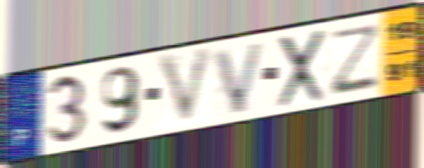3: (44, 70, 89, 150)
9: (100, 64, 141, 136)
V: (155, 43, 217, 131), (212, 38, 268, 117)
X: (276, 26, 328, 111)
Z: (328, 20, 383, 98)
